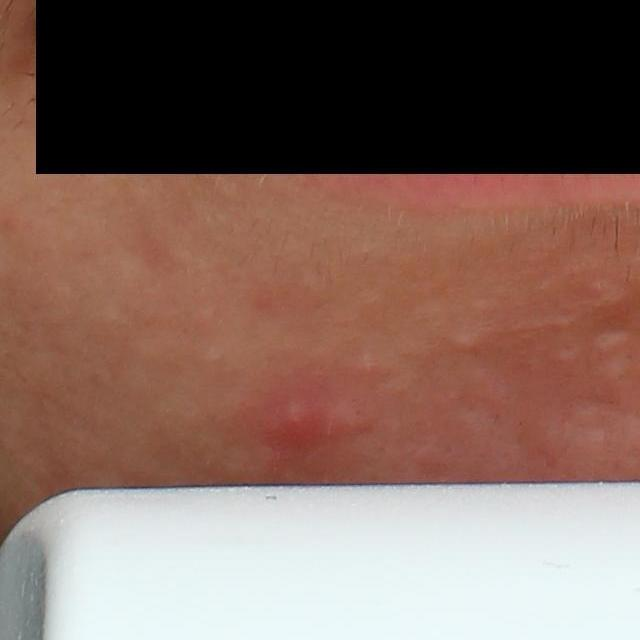hypertrophic_scar: (352, 306, 448, 390), (578, 276, 632, 315), (507, 314, 579, 337), (542, 343, 591, 371), (589, 330, 635, 353), (446, 328, 483, 353)
papule: (273, 392, 323, 440), (321, 402, 373, 444)
